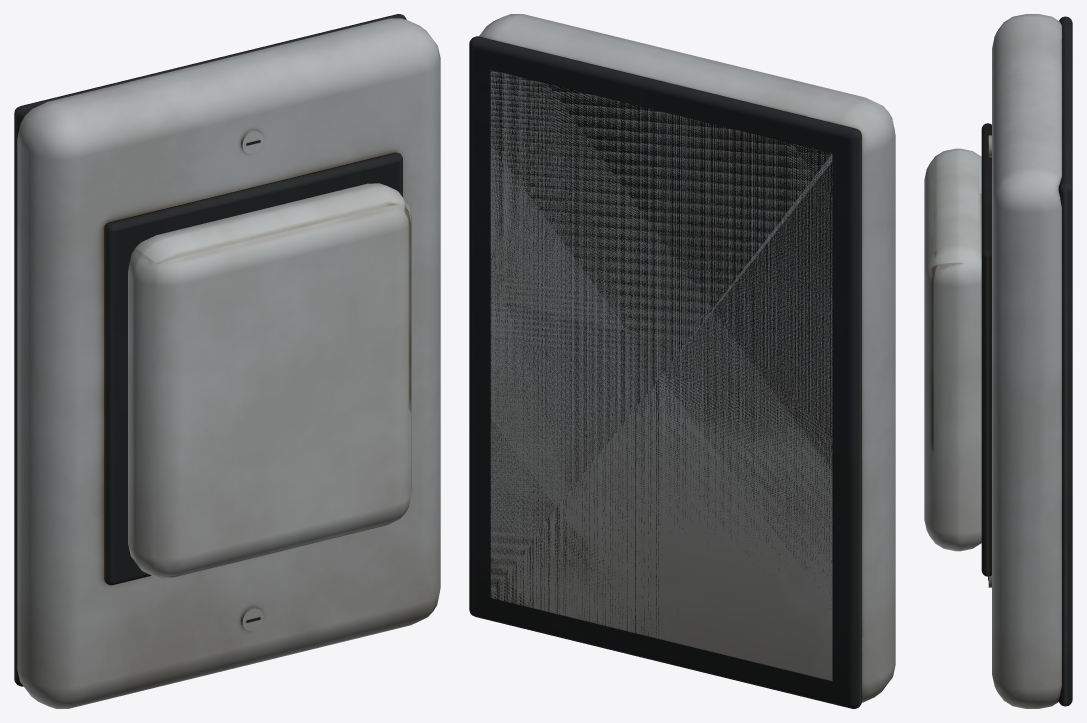
File: valvula_descarga_sujo_realista.glb
3 views of the same model, side by side, from view 1: azimuth 30°, elevation 25°; view 2: azimuth 150°, elevation 25°; view 3: azimuth 270°, elevation 25° (orthographic). The views are drawn at different scales.
Visible parts, largest first — view 1: Espelho_valvula, Botao_descarga; view 2: Espelho_valvula; view 3: Espelho_valvula, Botao_descarga.
Boxes of the visible parts, box(x1,y1,x2,y2) form: Espelho_valvula: box(14, 14, 440, 708); Botao_descarga: box(128, 183, 411, 578); Espelho_valvula: box(469, 14, 895, 708); Espelho_valvula: box(981, 14, 1072, 708); Botao_descarga: box(924, 148, 981, 551).
Size of the model in its own units: 0.1 by 0.14 by 0.035.
Materials: 1 (1 with a texture image).
